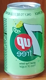sevenup: (4, 3, 45, 78)
